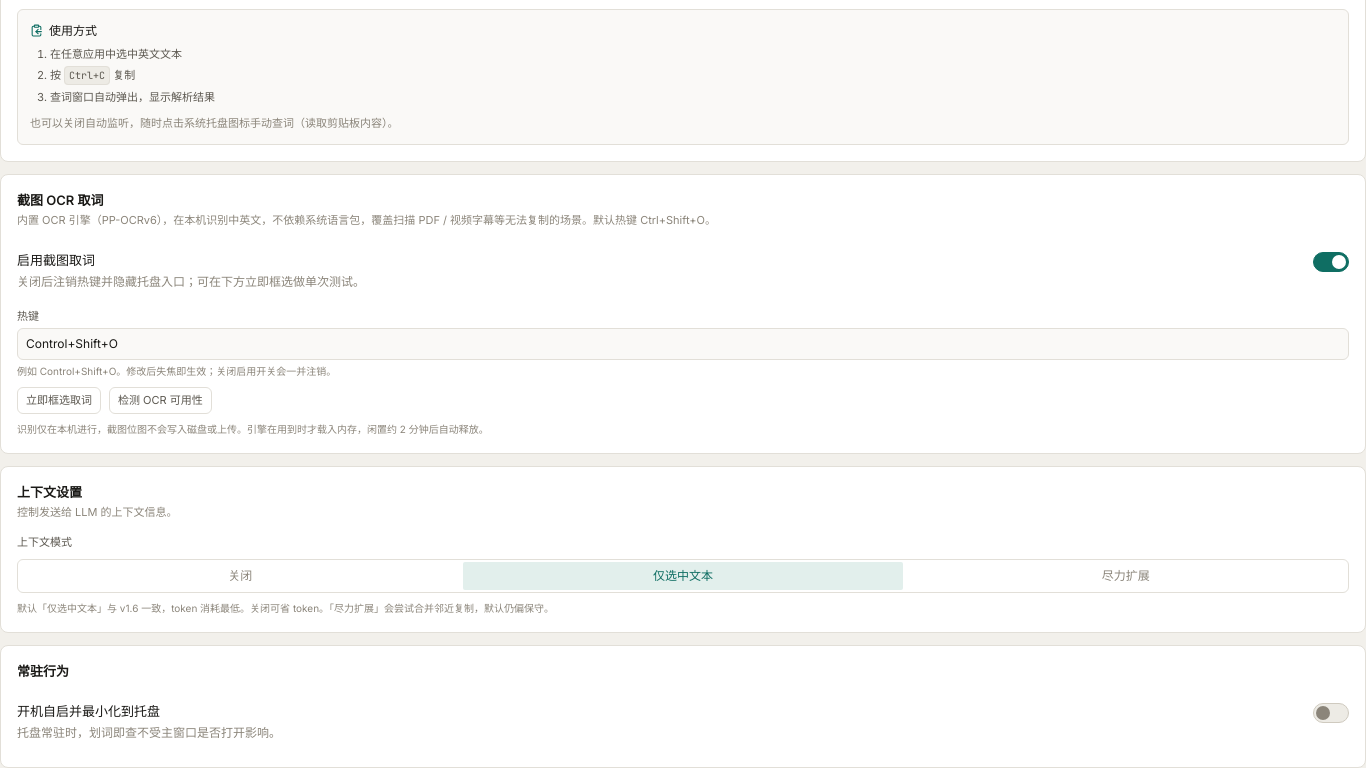
Test: the settings of capturing text › checking that text can be recognized in a picture › says that it can, beside the button, and not in a dialog of the system
(page scrolled)
Step 1. Click the button "检测 OCR 可用性" → {"x": 160, "y": 400}, box [109,387,212,414]
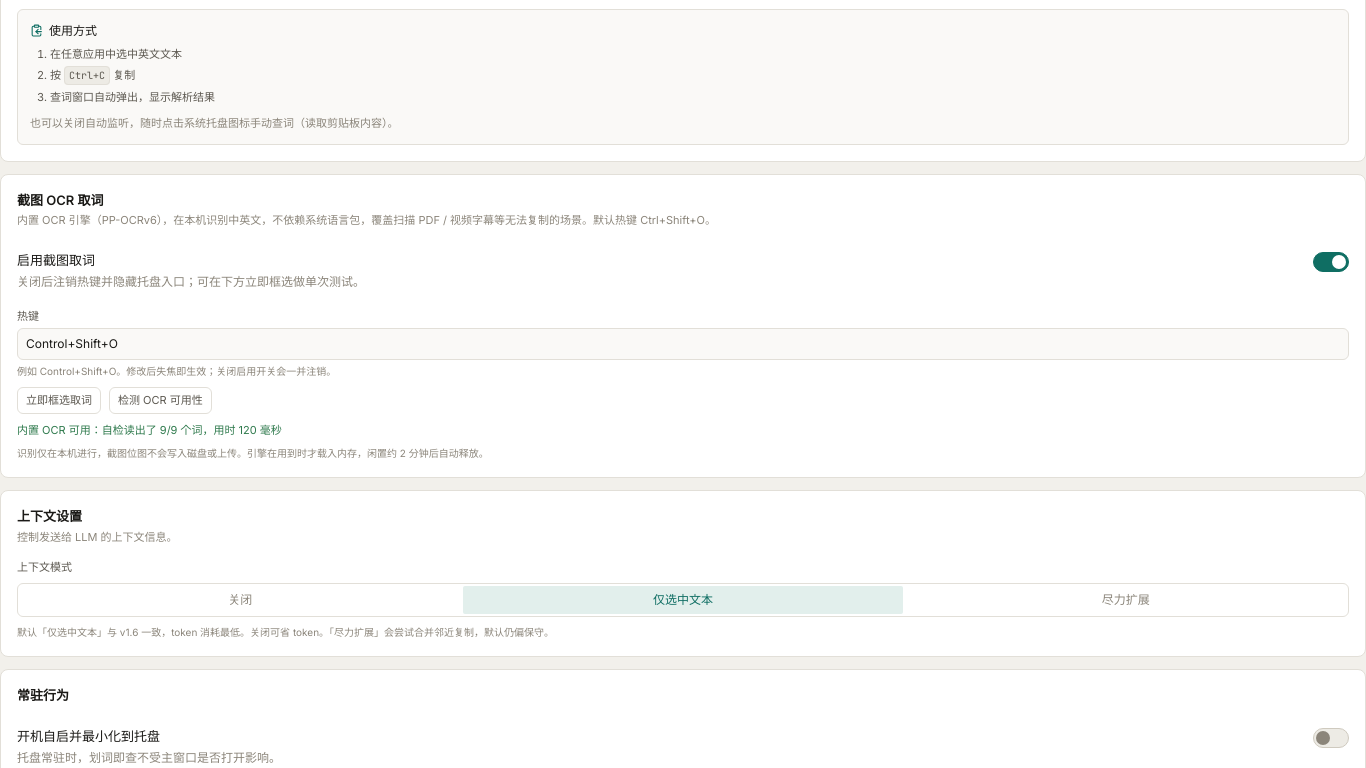
Result: the message reads "内置 OCR 可用：自检读出了 9/9 个词，用时 120 毫秒" at [17,423,282,437]
